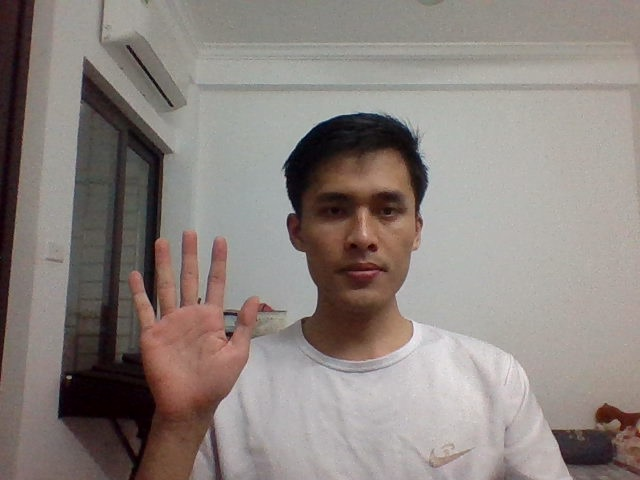Hello: (126, 226, 261, 414)
